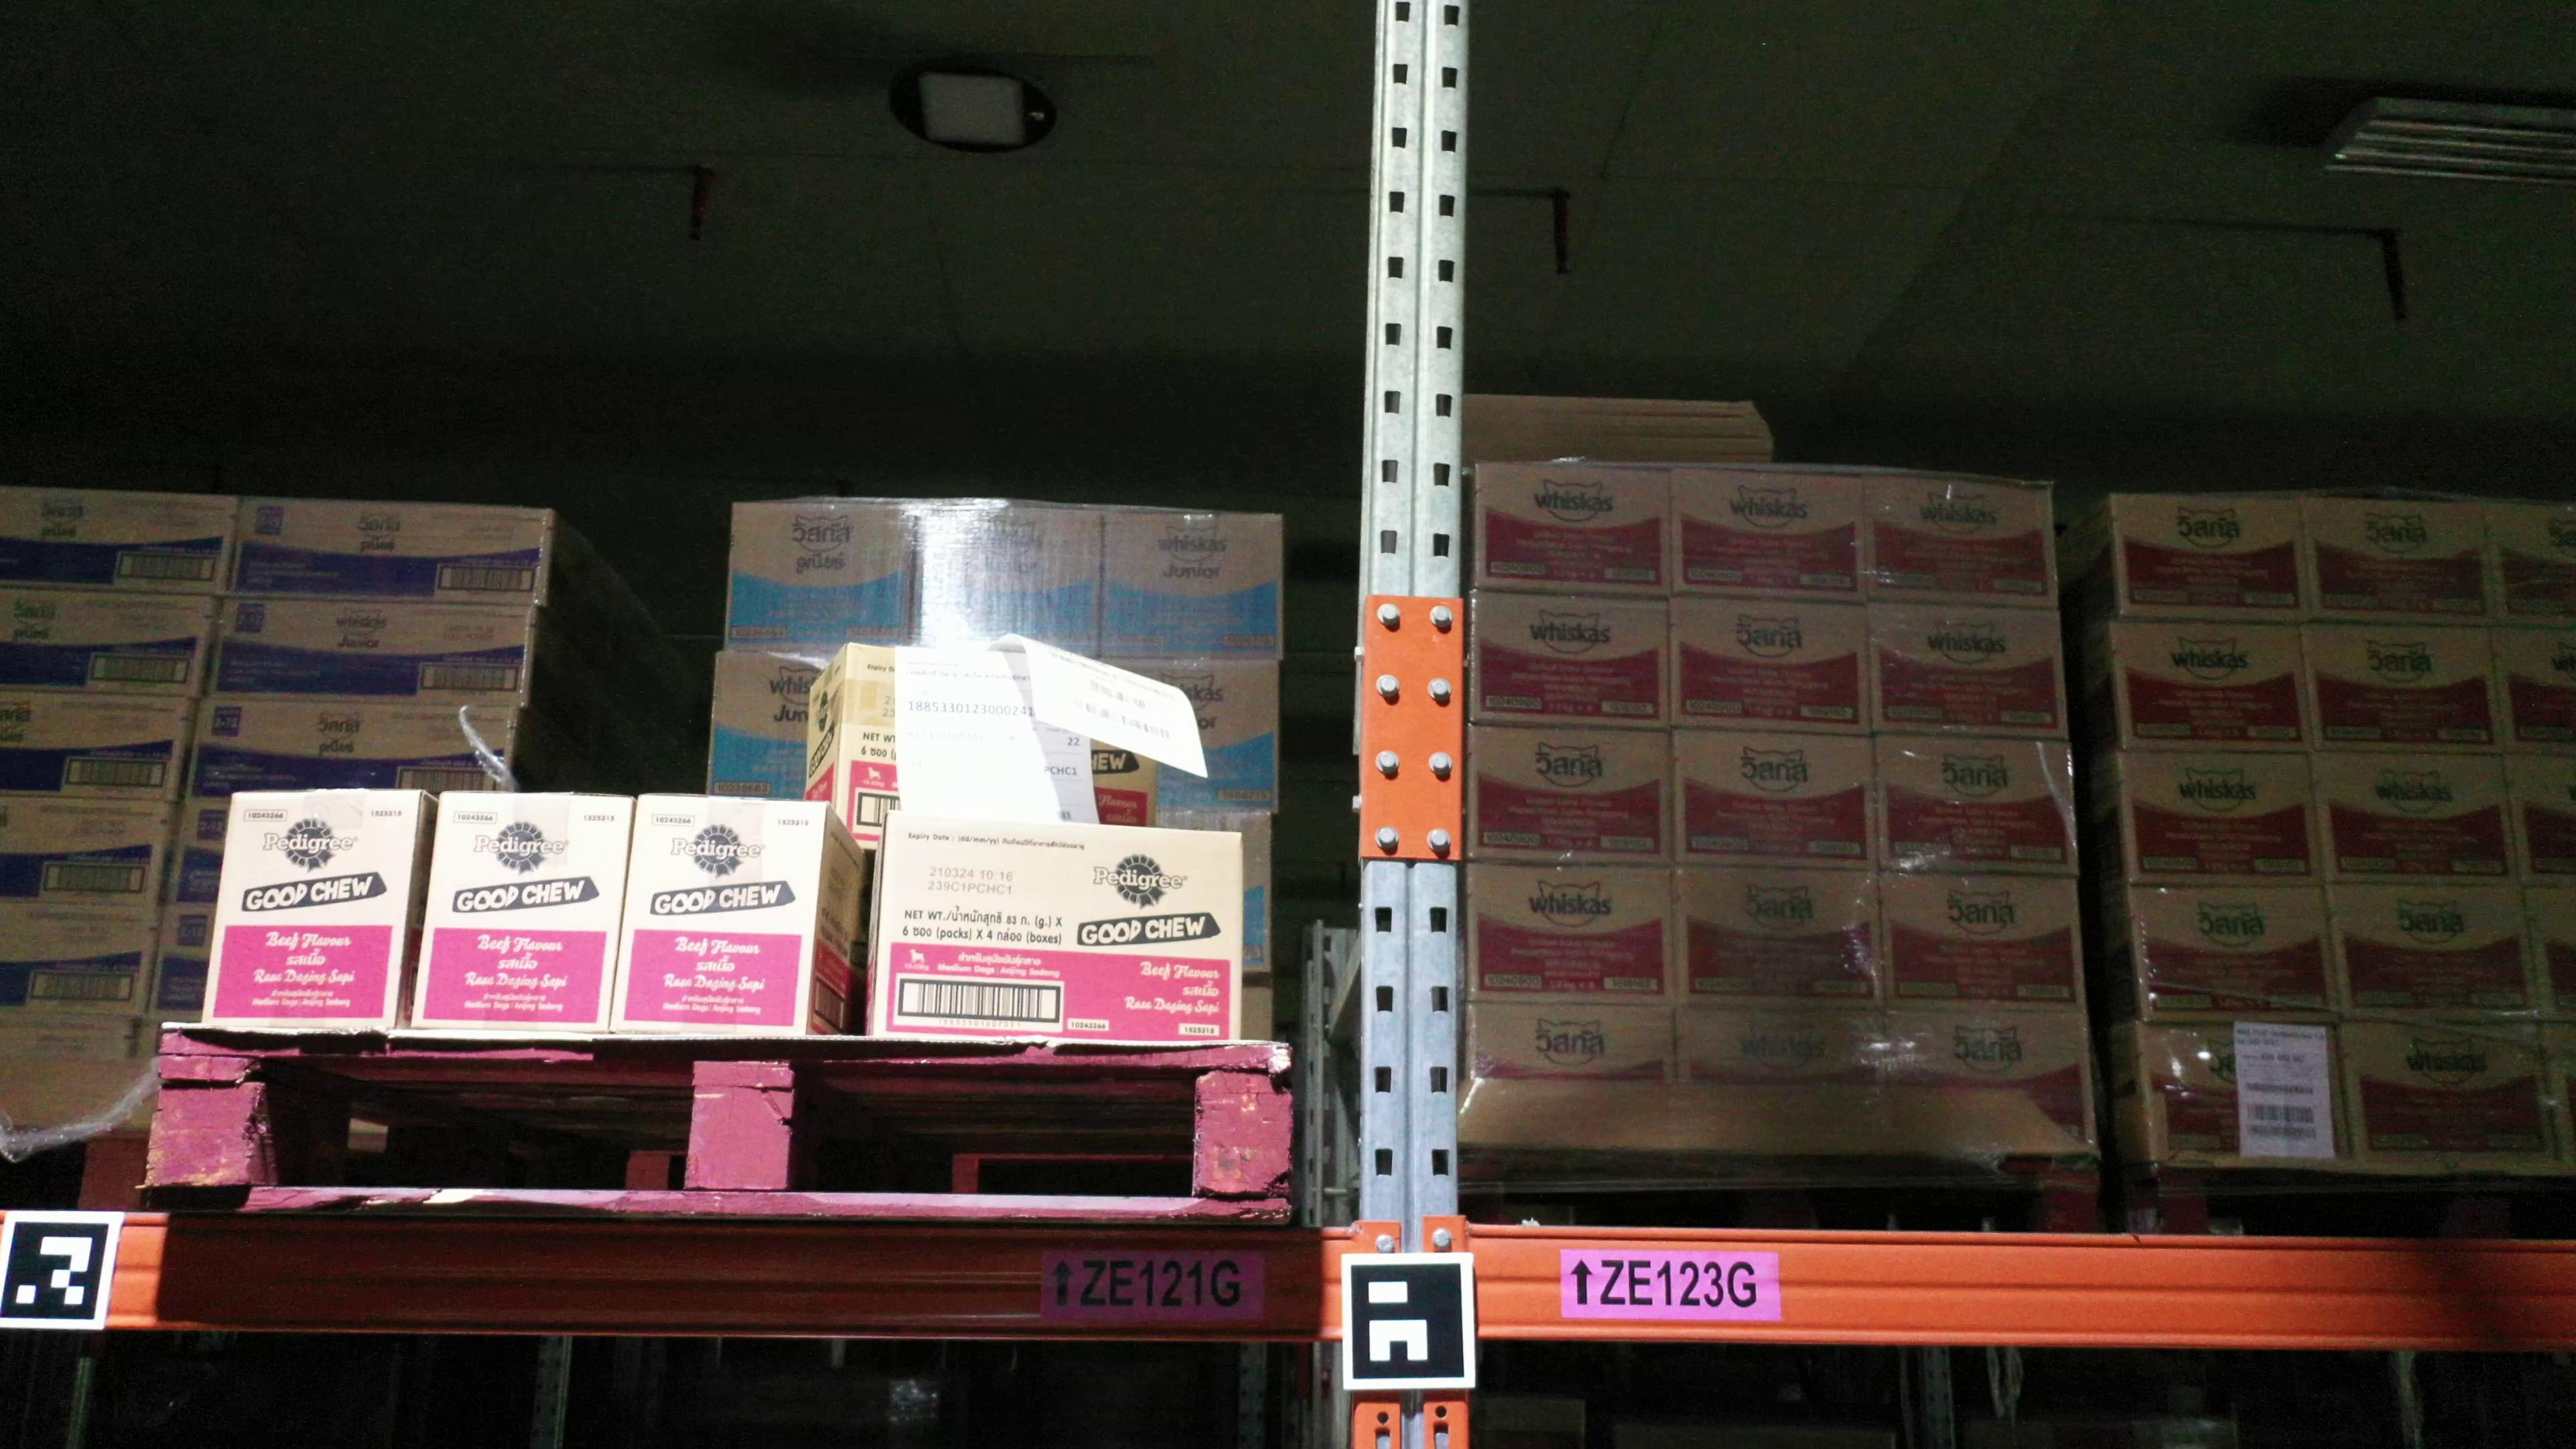-: (872, 810, 1244, 1047), (832, 649, 1161, 849), (407, 789, 635, 1035), (607, 794, 830, 1037), (203, 787, 423, 1031)
box: (180, 692, 517, 810), (221, 492, 557, 607), (205, 596, 531, 709), (908, 499, 1108, 662), (2127, 881, 2341, 1028), (1672, 725, 1882, 874), (2339, 1023, 2562, 1162), (1675, 863, 1890, 1008), (1467, 856, 1677, 1003), (1468, 720, 1677, 867), (1875, 734, 2084, 881), (2325, 886, 2541, 1026), (1667, 594, 1874, 740), (1891, 1008, 2100, 1152), (722, 499, 918, 651), (1879, 870, 2084, 1016), (2141, 1024, 2355, 1161), (2312, 752, 2525, 888), (1872, 596, 2074, 740), (2298, 617, 2507, 755), (2118, 752, 2328, 888), (1476, 456, 1675, 600), (1468, 587, 1668, 731), (1102, 508, 1288, 662), (2107, 617, 2314, 754), (1670, 464, 1872, 603), (0, 483, 239, 600), (2109, 490, 2311, 625), (2298, 497, 2498, 630), (1865, 472, 2059, 609), (0, 586, 219, 701), (0, 688, 195, 805), (706, 651, 842, 800), (0, 794, 175, 909), (1675, 1001, 1891, 1086), (0, 906, 159, 1019), (1472, 1001, 1679, 1085), (2489, 502, 2576, 633), (2495, 625, 2576, 757), (2509, 752, 2576, 895), (0, 1017, 138, 1074)
